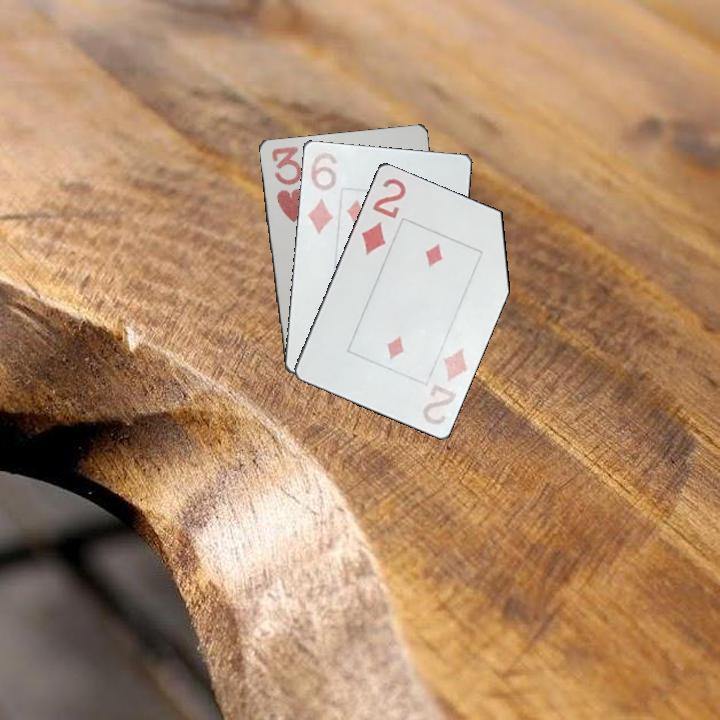2d: (419, 342, 472, 428), (357, 173, 409, 258)
3h: (268, 143, 307, 225)
6d: (304, 147, 340, 237)
